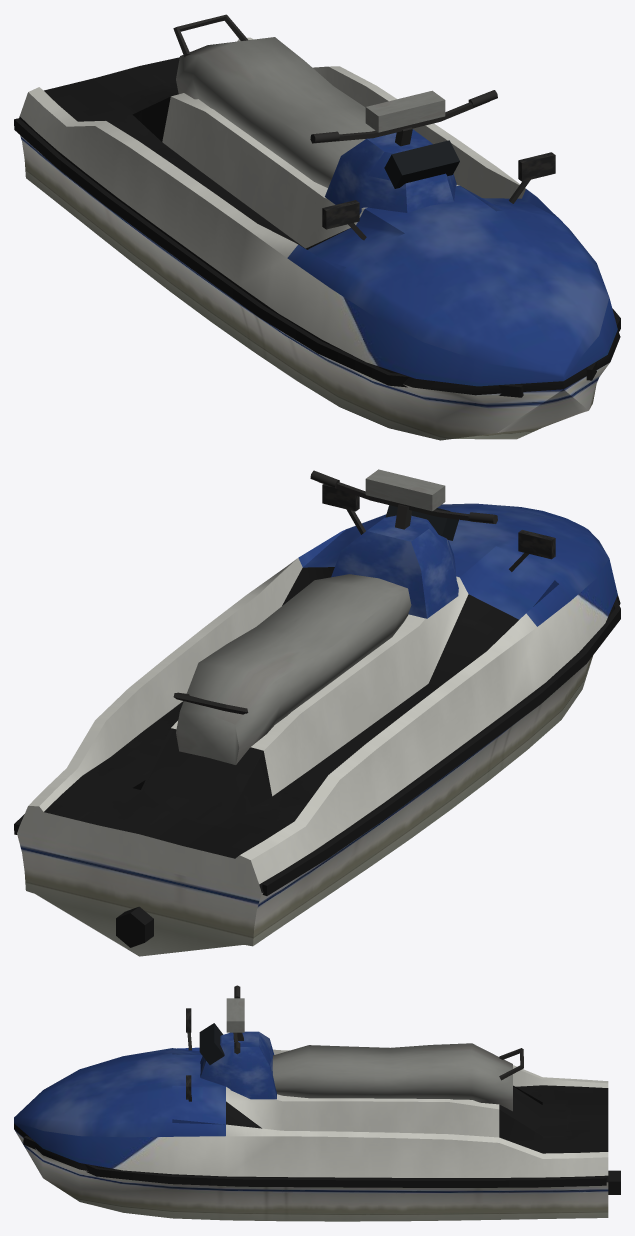
The model's file is jetSki-a-lod1.glb.
3 views of the same model, one above another, from view 1: azimuth 30°, elevation 25°; view 2: azimuth 150°, elevation 25°; view 3: azimuth 270°, elevation 25° (orthographic). The views are drawn at different scales.
Visible parts, largest first — view 1: Hull, Superstructure; view 2: Hull, Superstructure; view 3: Hull, Superstructure.
Boxes of the visible parts, x1,y1,x2,y2 form: Hull: [14, 37, 620, 440]; Superstructure: [173, 14, 555, 240]; Hull: [14, 503, 620, 956]; Superstructure: [173, 469, 555, 764]; Hull: [14, 1047, 620, 1221]; Superstructure: [186, 985, 523, 1111].
Size of the model in its own units: 1.26 by 1.2 by 3.37.
Materials: 1 (1 with a texture image).
